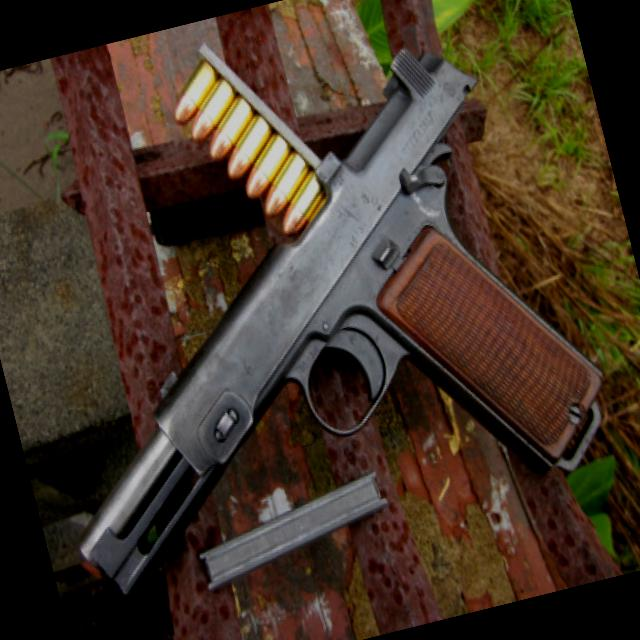handgun: (0, 11, 630, 602)
